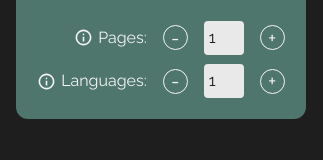
Test: WebFeatures › increases the amount of languages when the corresponding + button is pressed
Step 1. Click the button named "Add language" → (272, 81), box top-left (260, 69), bottom-right (285, 94)
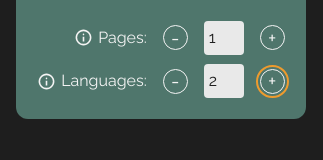
expect the number field labelled "languages:" holds "2": met, box top-left (204, 64), bottom-right (244, 98)
